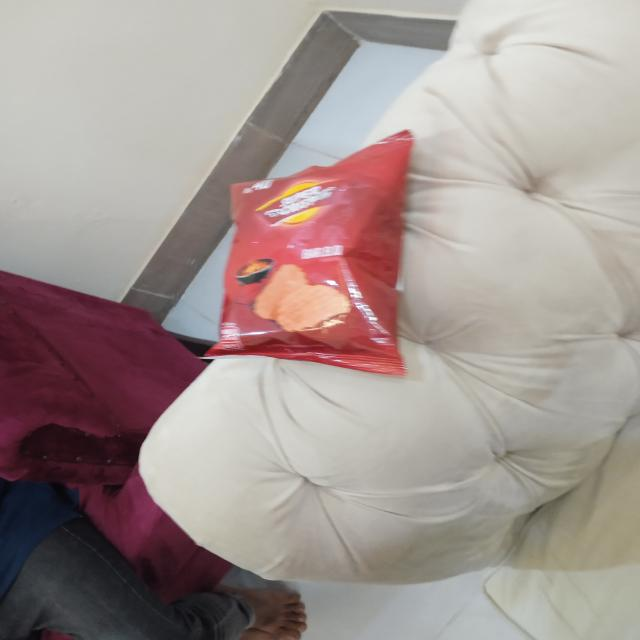Plastic: (206, 130, 411, 380)
